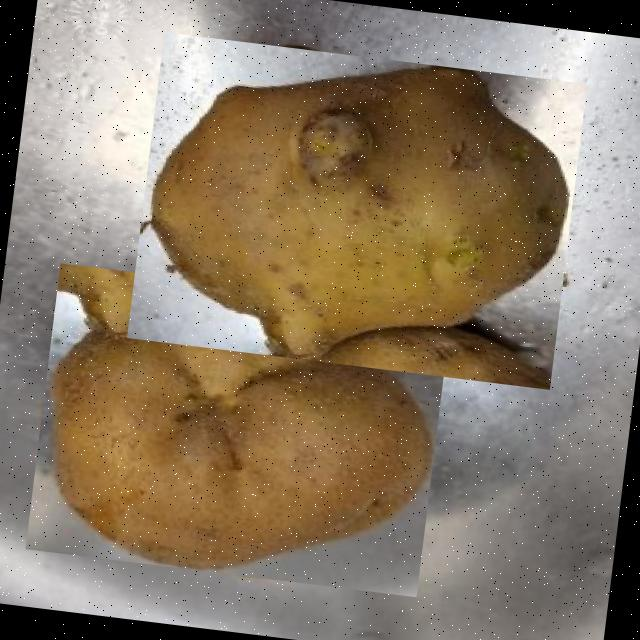Damaged potato: (126, 31, 586, 388), (25, 262, 451, 596)
